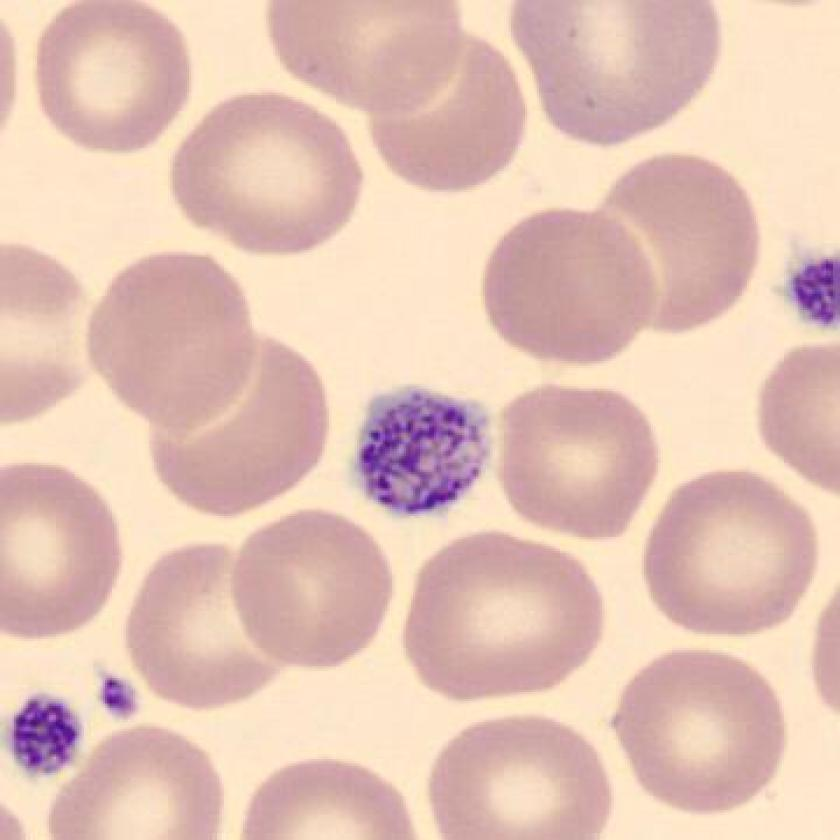platelets: (335, 369, 507, 531), (1, 681, 92, 788), (85, 644, 153, 737)
